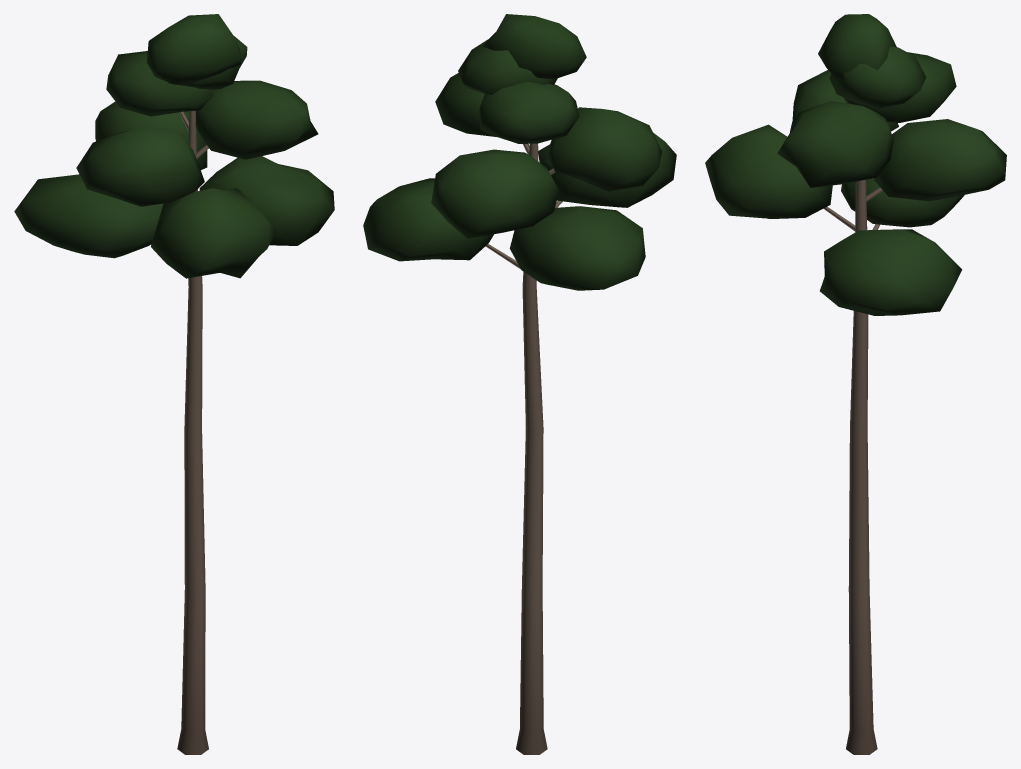
File: pine.glb
3 renders of one model, left to right at view 1: azimuth 30°, elevation 25°; view 2: azimuth 150°, elevation 25°; view 3: azimuth 270°, elevation 25°, orthographic.
Visible parts, largest first — view 1: pine; view 2: pine; view 3: pine.
Boxes of the visible parts, x1,y1,x2,y2 form: pine: (14, 14, 334, 754); pine: (363, 14, 676, 754); pine: (705, 14, 1006, 754).
Size of the model in its own units: 7.52 by 18.25 by 6.82.
